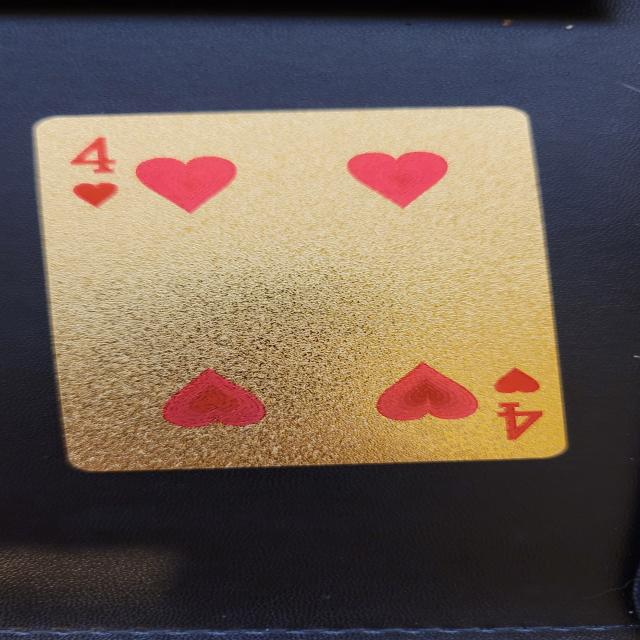4 of hearts: (32, 105, 572, 474)
